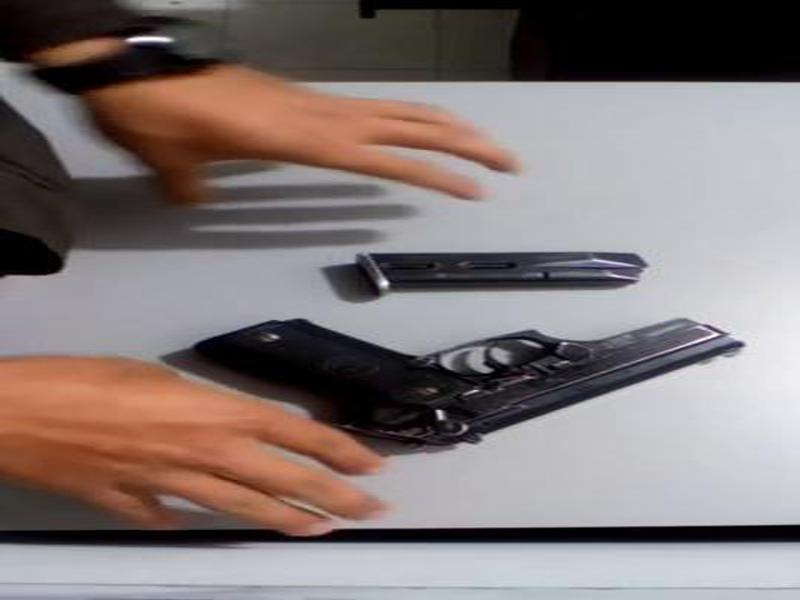Pistola: (180, 296, 774, 471)
